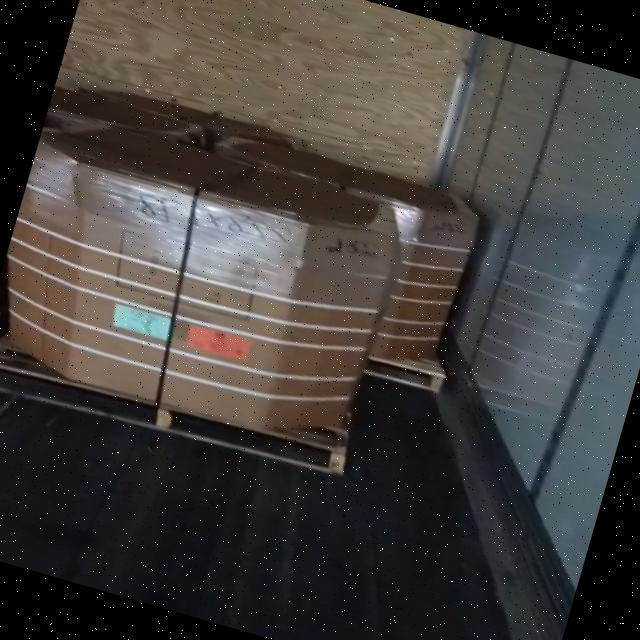pallet: (0, 363, 349, 477), (362, 355, 446, 394)
